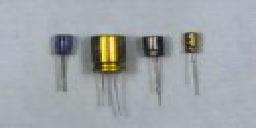Electrolytic Capacitor: (84, 28, 132, 128), (140, 30, 172, 113), (47, 27, 75, 100), (179, 30, 203, 102)
